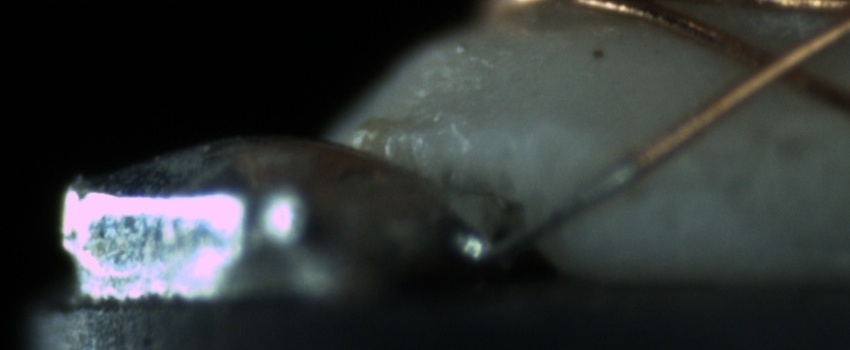CL: (727, 28, 828, 99)
TS: (475, 155, 633, 265)
